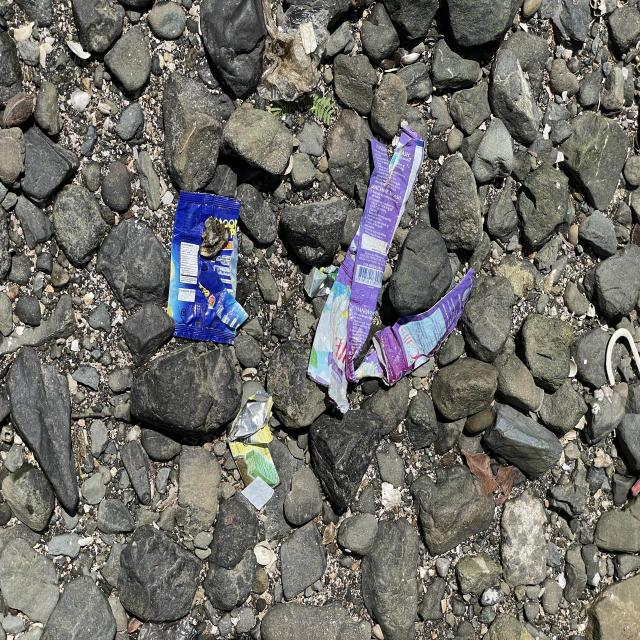plastic_waste: (303, 126, 475, 409), (169, 195, 250, 347), (231, 381, 284, 511)
